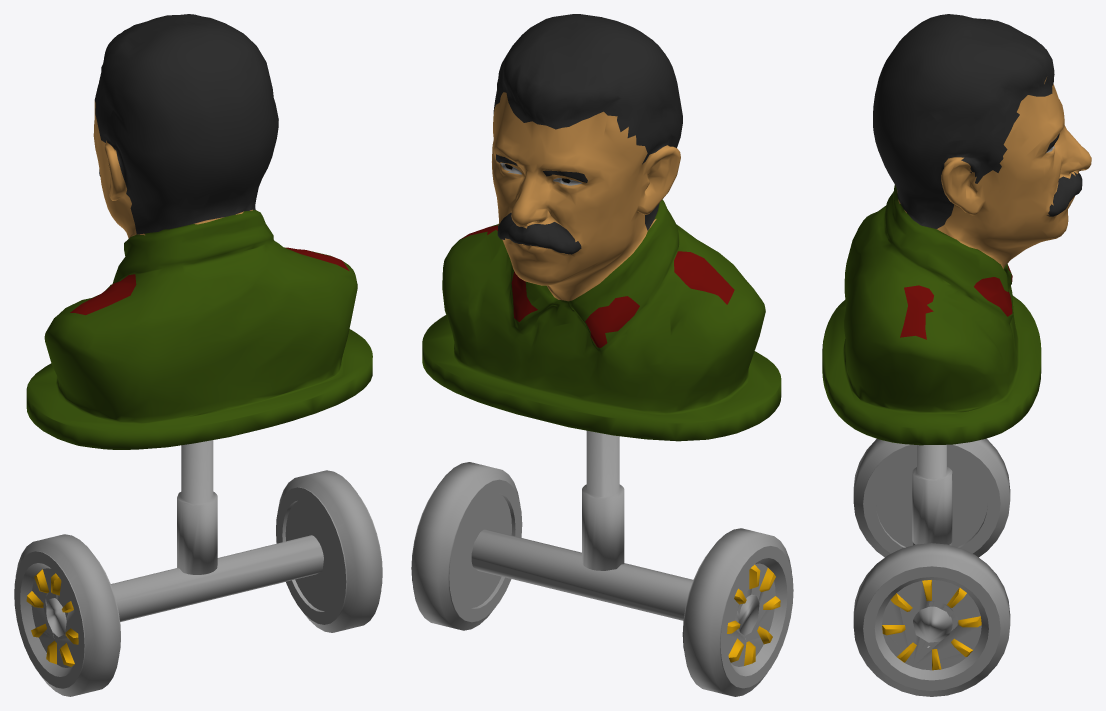
The model's file is skinID5.fbx.
The picture shows the model from 3 angles, left to right: view 1: azimuth 30°, elevation 25°; view 2: azimuth 150°, elevation 25°; view 3: azimuth 270°, elevation 25°; orthographic projection. The views are drawn at different scales.
Visible parts, largest first — view 1: 16093_JosephStalin_V2_NEW, Cylinder, Cylinder.001, Cylinder.002; view 2: 16093_JosephStalin_V2_NEW, Cylinder, Cylinder.001, Cylinder.002; view 3: 16093_JosephStalin_V2_NEW, Cylinder, Cylinder.002, Cylinder.001.
Part boxes in pixels (<box>): 16093_JosephStalin_V2_NEW: <box>26,14,372,449</box>; Cylinder: <box>14,470,382,696</box>; Cylinder.001: <box>46,535,323,637</box>; Cylinder.002: <box>177,440,217,574</box>; 16093_JosephStalin_V2_NEW: <box>422,14,781,441</box>; Cylinder: <box>411,462,793,696</box>; Cylinder.001: <box>471,529,759,635</box>; Cylinder.002: <box>582,430,624,570</box>; 16093_JosephStalin_V2_NEW: <box>822,14,1091,445</box>; Cylinder: <box>853,438,1010,696</box>; Cylinder.002: <box>912,444,952,544</box>; Cylinder.001: <box>913,542,952,642</box>.
Bounding box in the file's own units: 487 × 903 × 365.
